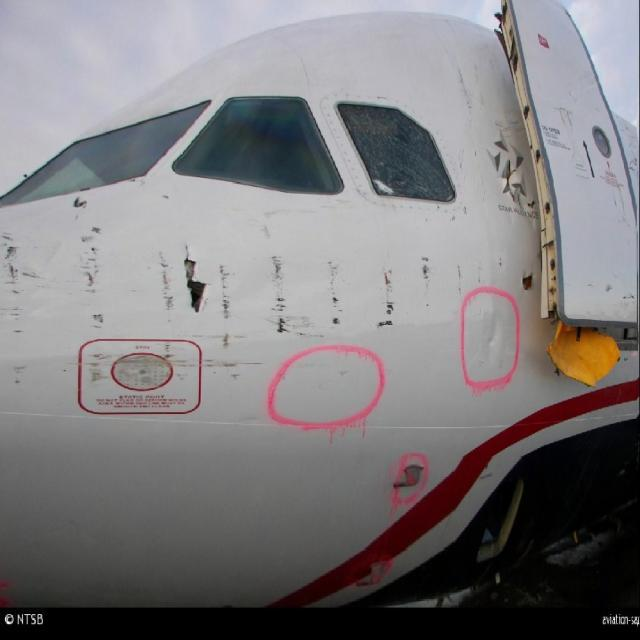crack: (176, 246, 217, 314), (515, 269, 541, 307)
dent: (484, 312, 502, 357)
